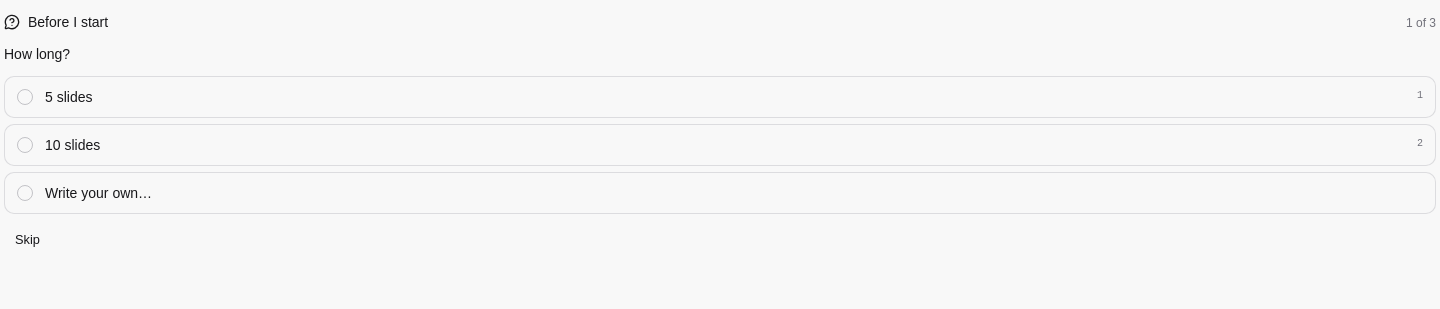
Test case: AgentQuestions › auto-advances on single choice and submits the final answers
Later steps or results of the test are not shown.
Expected: the text "1 of 3" is shown, [1406,15,1436,31]
Click the button "5 slides 1": (69, 97) [4,76,1436,118]
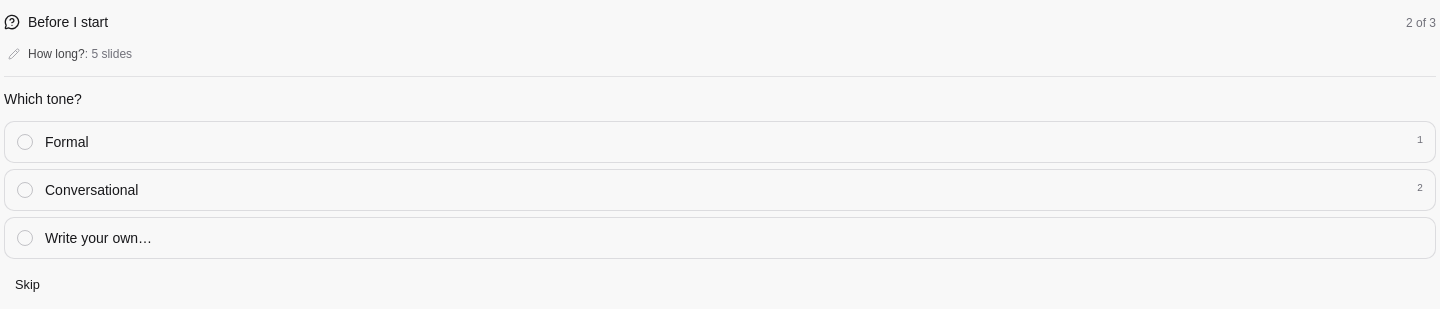
Expected: the text "Which tone?" is shown, [4,91,82,107]
Click the button "Formal 1": (67, 142) [4,121,1436,163]
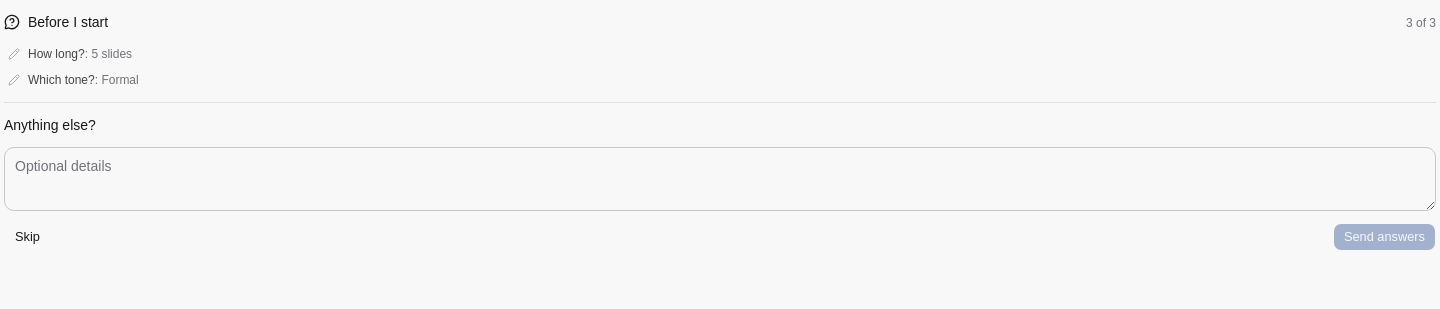
Expected: the text "Anything else?" is shown, [4,117,96,133]
